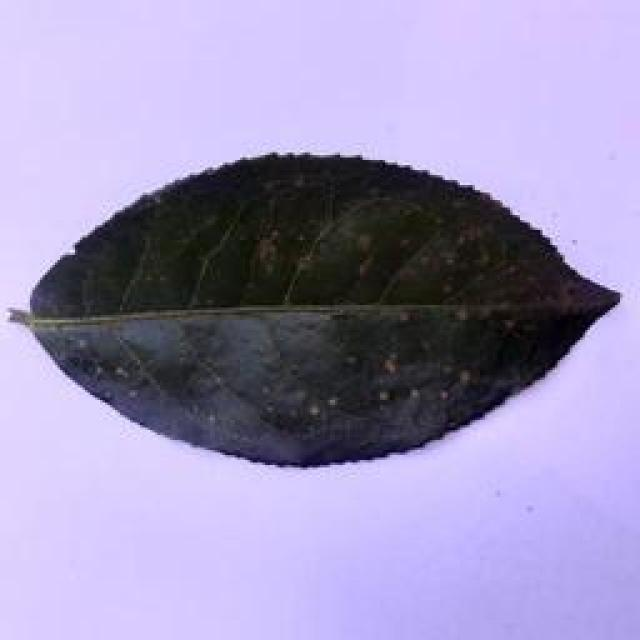Algal Leaf Spot: (2, 138, 640, 480)
